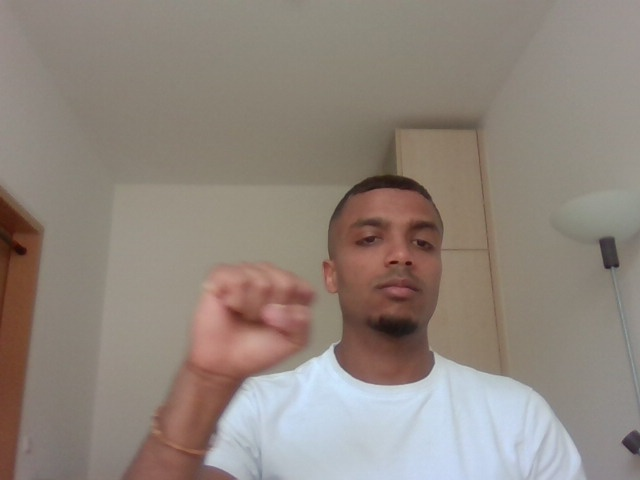maybe: (175, 252, 319, 391)
